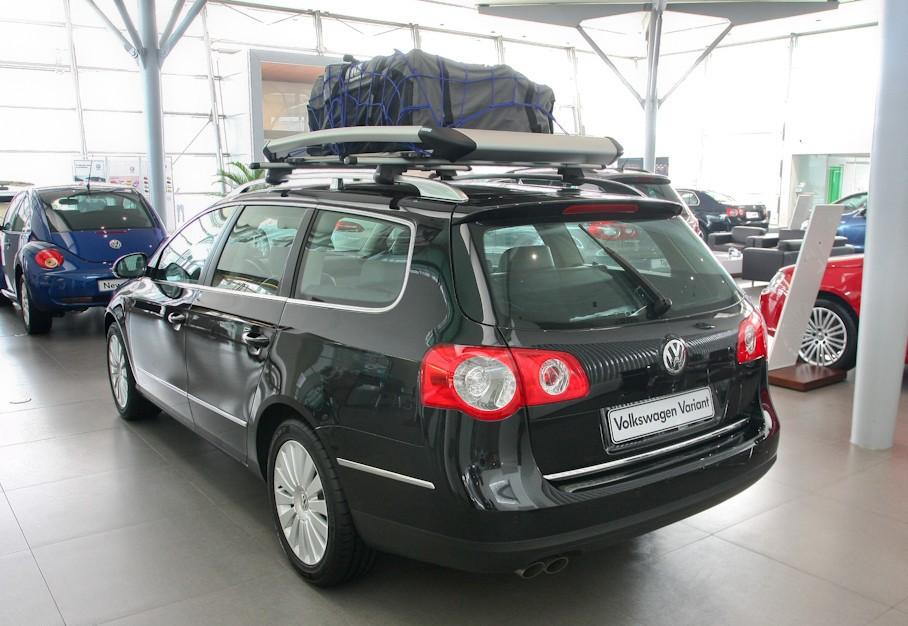Wagon: (104, 191, 780, 586)
